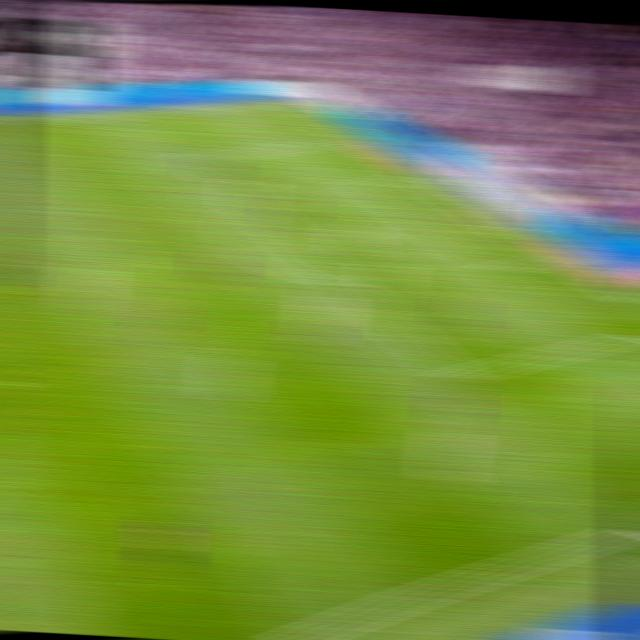bigarea_bottom_inner: (442, 366, 474, 386)
bigarea_top_inner: (182, 151, 210, 164)
bigarea_top_outter: (340, 132, 369, 145)
bottom_arc_area_intersection: (330, 276, 360, 290)
smallarea_bottom_inner: (480, 259, 512, 280)
smallarea_top_inner: (352, 178, 380, 190)
top_arc_area_intersection: (240, 199, 270, 216)
